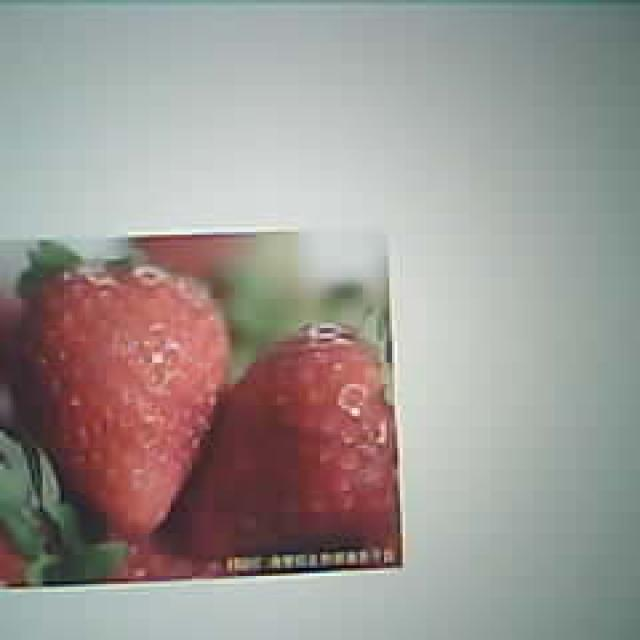ripe: (21, 264, 228, 533), (200, 324, 400, 554)
